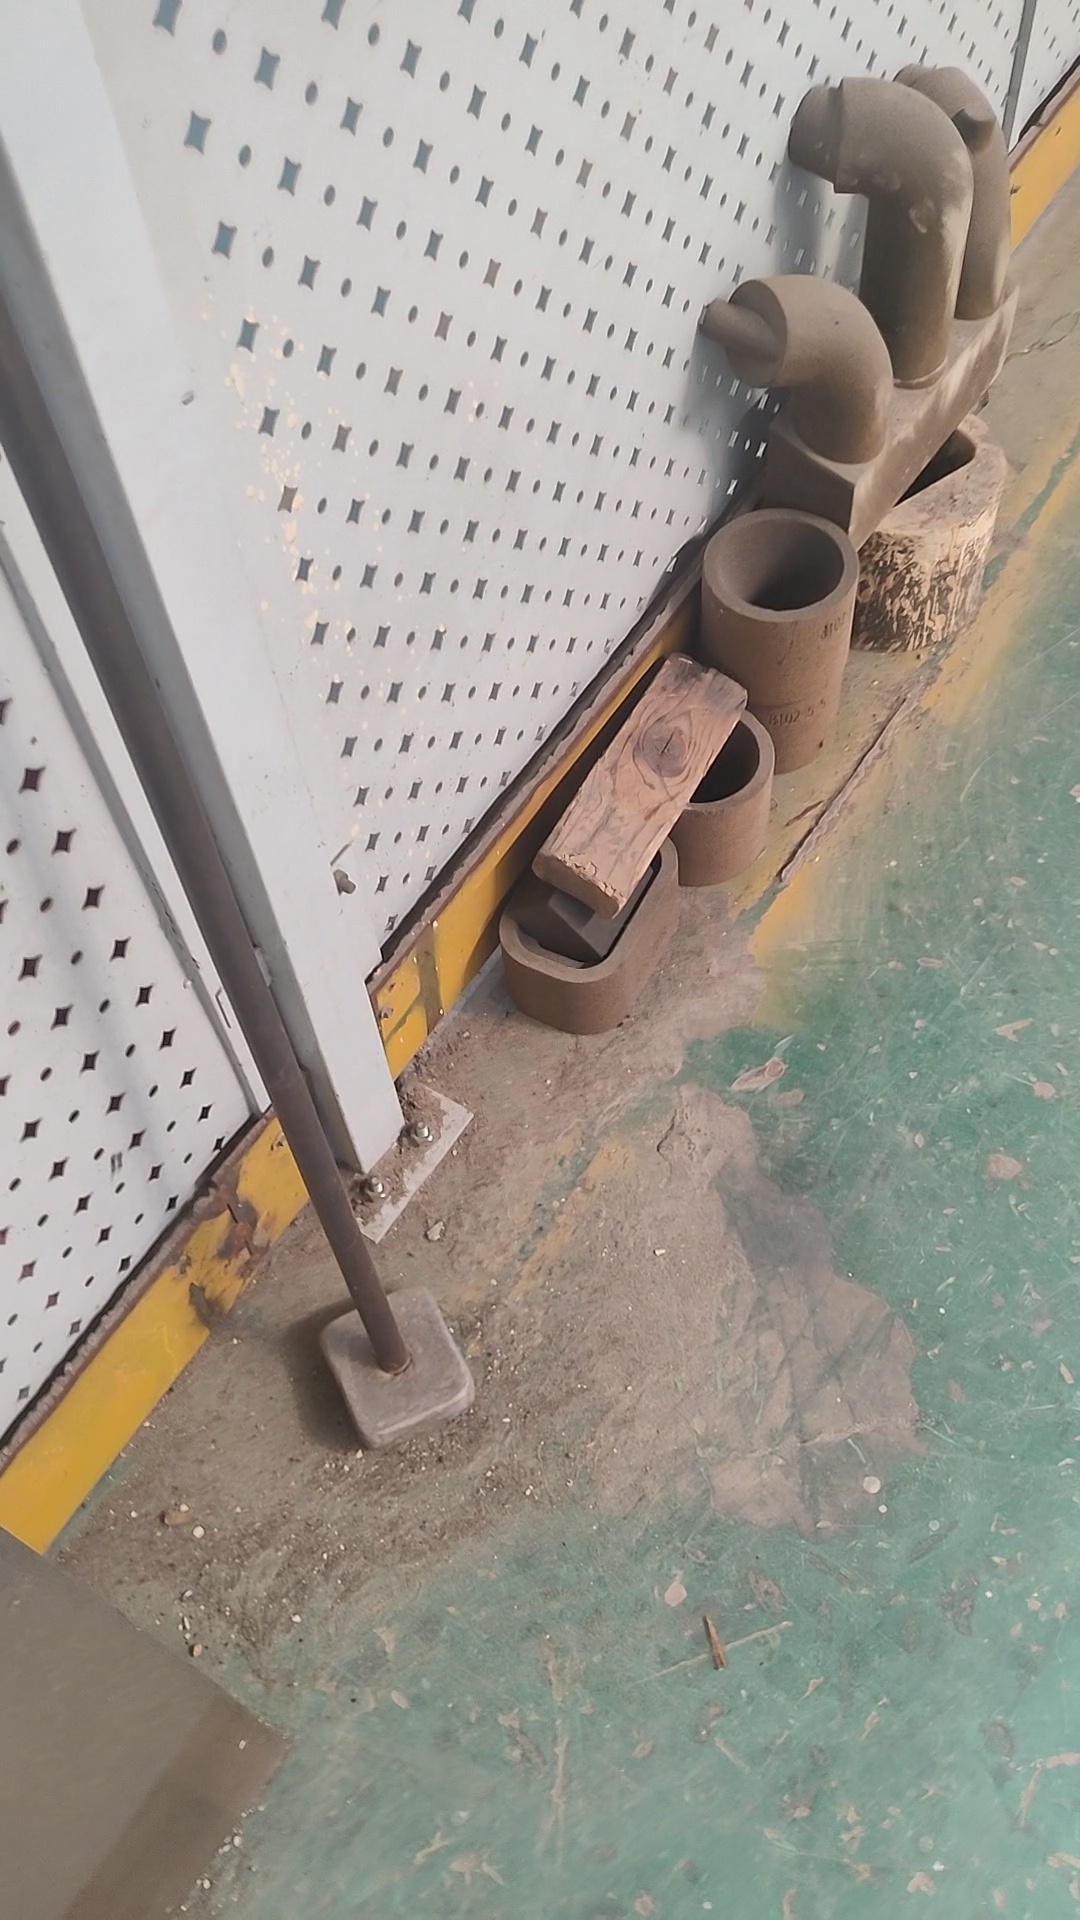pouring hole: (717, 518, 844, 612), (650, 716, 760, 804)
